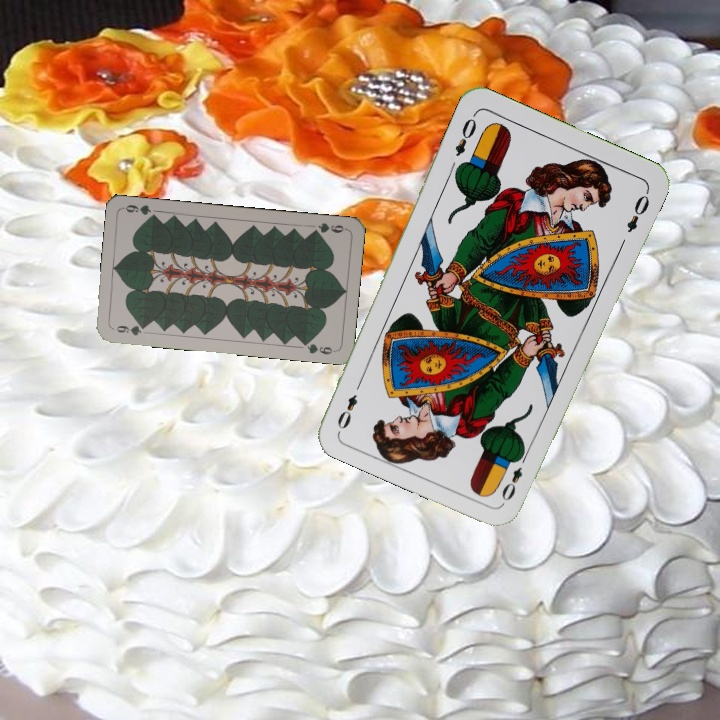EO: (497, 448, 531, 504), (451, 109, 479, 159)
G9: (308, 219, 349, 237), (109, 321, 150, 338)
